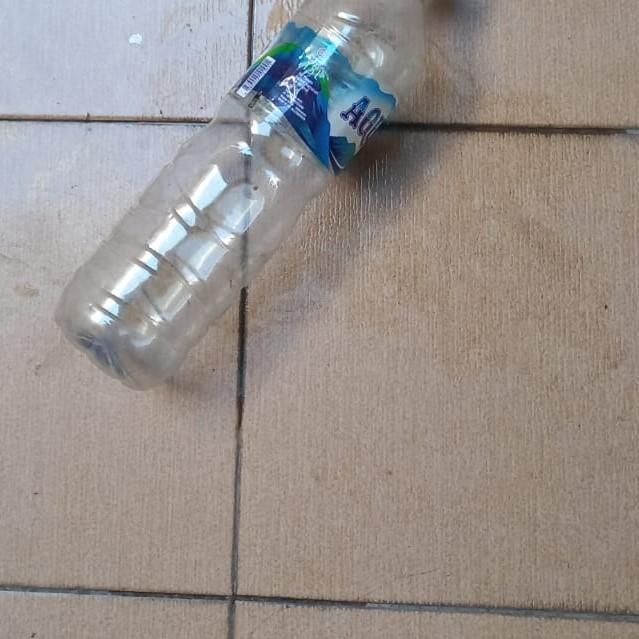Plastik: (55, 0, 431, 389)
